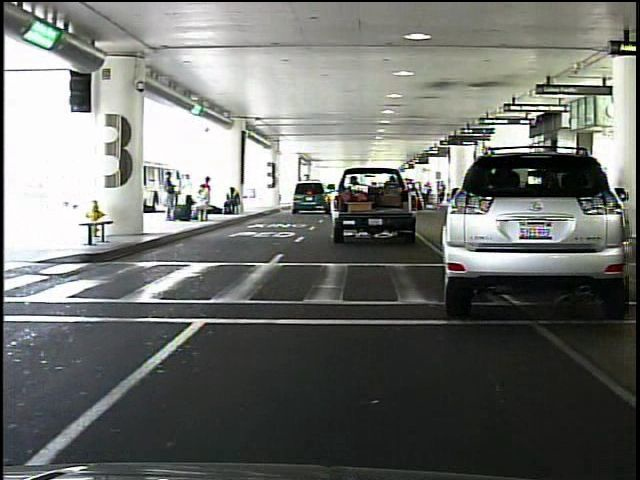person: (161, 170, 181, 222)
